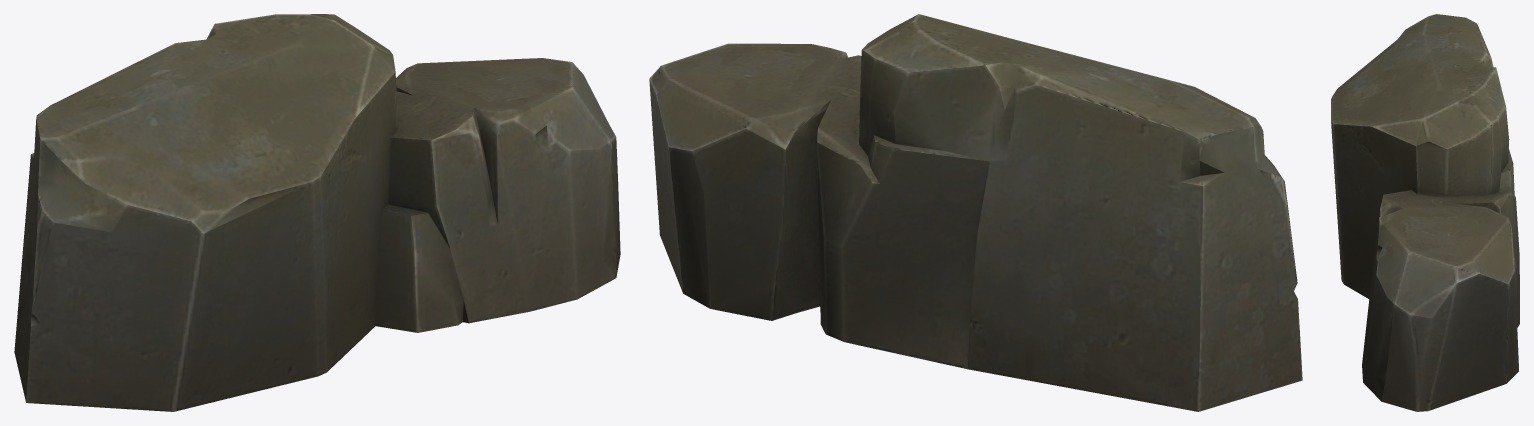
The model's file is riveredge_rock005a.glb.
3 views of the same model, side by side, from view 1: azimuth 30°, elevation 25°; view 2: azimuth 150°, elevation 25°; view 3: azimuth 270°, elevation 25° (orthographic). The views are drawn at different scales.
Parts seen in each view (by area): view 1: models\props_rock\riveredge_rock005a.vmdl_c.riveredge_rock00; view 2: models\props_rock\riveredge_rock005a.vmdl_c.riveredge_rock00; view 3: models\props_rock\riveredge_rock005a.vmdl_c.riveredge_rock00.
Part boxes in pixels (x1,y1,x2,y2): models\props_rock\riveredge_rock005a.vmdl_c.riveredge_rock00: (14, 14, 620, 411); models\props_rock\riveredge_rock005a.vmdl_c.riveredge_rock00: (649, 14, 1302, 411); models\props_rock\riveredge_rock005a.vmdl_c.riveredge_rock00: (1331, 14, 1519, 411).
Bounding box in the file's own units: 9.06 × 4.07 × 3.25.
Materials: 1 (1 with a texture image).
